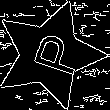P_W: (18, 29, 81, 80)
